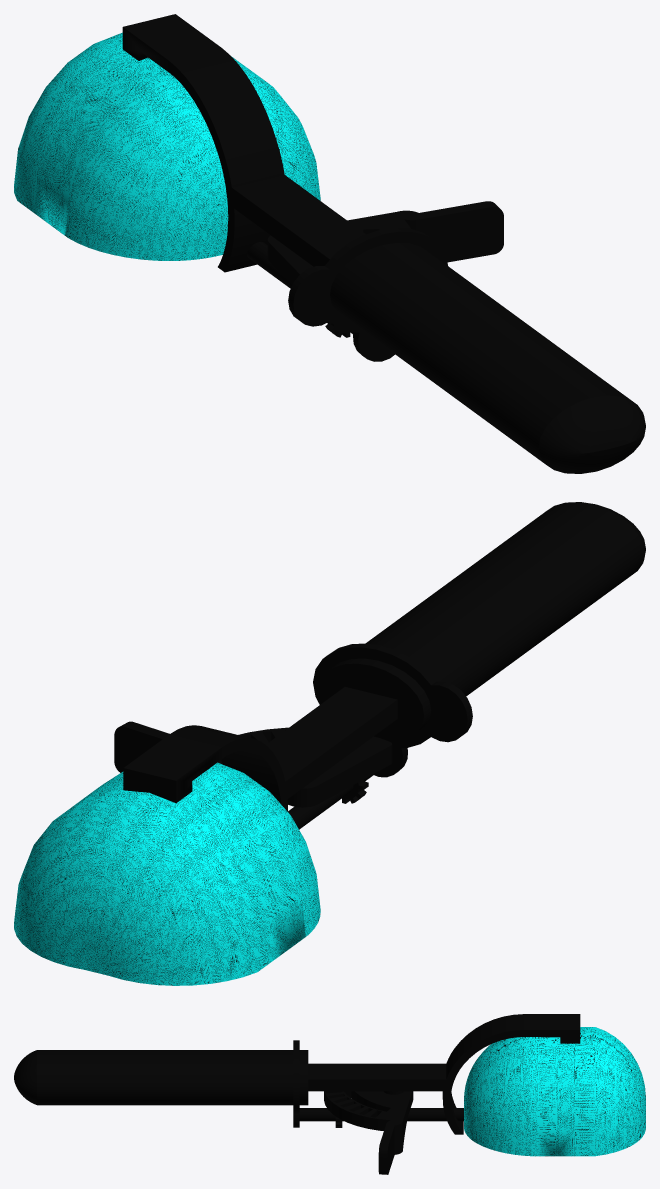
File: scoop_01_origin_gt_3.dae
3 views of the same model, one above another, from view 1: azimuth 30°, elevation 25°; view 2: azimuth 150°, elevation 25°; view 3: azimuth 270°, elevation 25° (orthographic). The views are drawn at different scales.
Visible parts, largest first — view 1: group_0 (×4); view 2: group_0 (×4); view 3: group_0 (×5).
Boxes of the visible parts, x1,y1,x2,y2 form: group_0 (×4): (14,14,645,473); group_0 (×4): (14,502,645,985); group_0 (×5): (14,1014,645,1174).
Size of the model in its own units: 4.22 by 12.06 by 2.21.
